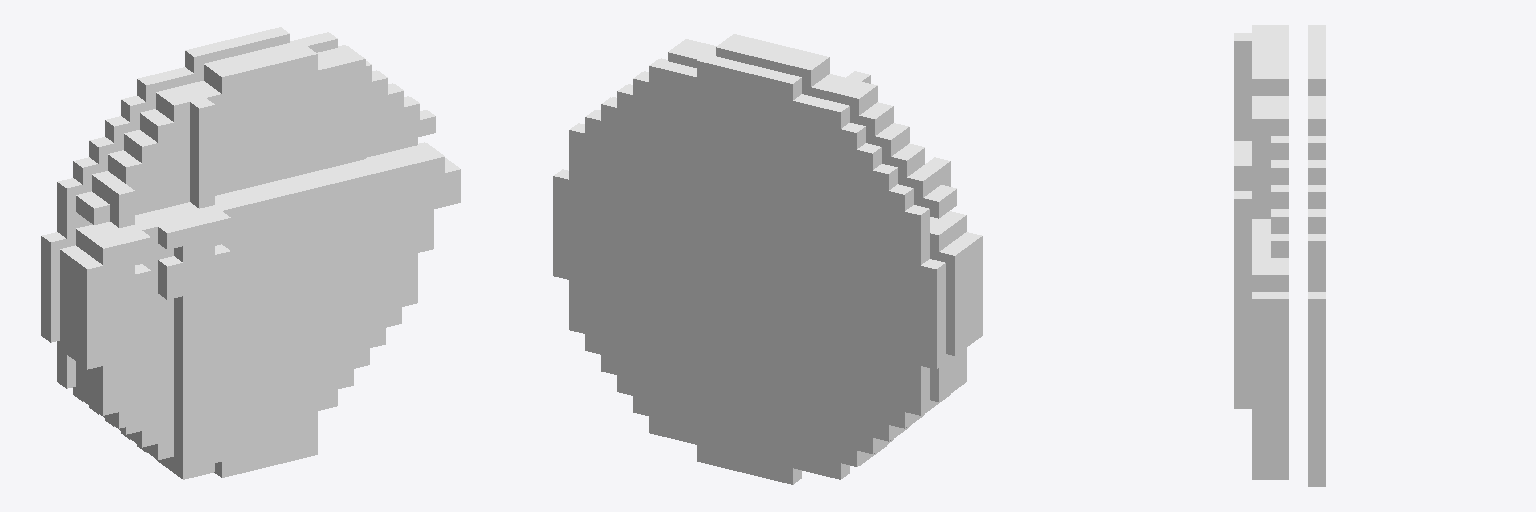
Rendered from stpaulchurchpiece4-1.obj.
The picture shows the model from 3 angles: view 1: azimuth 30°, elevation 25°; view 2: azimuth 150°, elevation 25°; view 3: azimuth 270°, elevation 25°; orthographic projection.
Visible parts, largest first — view 1: object 1; view 2: object 1; view 3: object 1.
Boxes of the visible parts, box(x1,y1,x2,y2) form: object 1: box(41, 27, 460, 479); object 1: box(553, 34, 982, 484); object 1: box(1234, 25, 1325, 486).
Bounding box in the file's own units: 2.4 × 2.4 × 0.5.